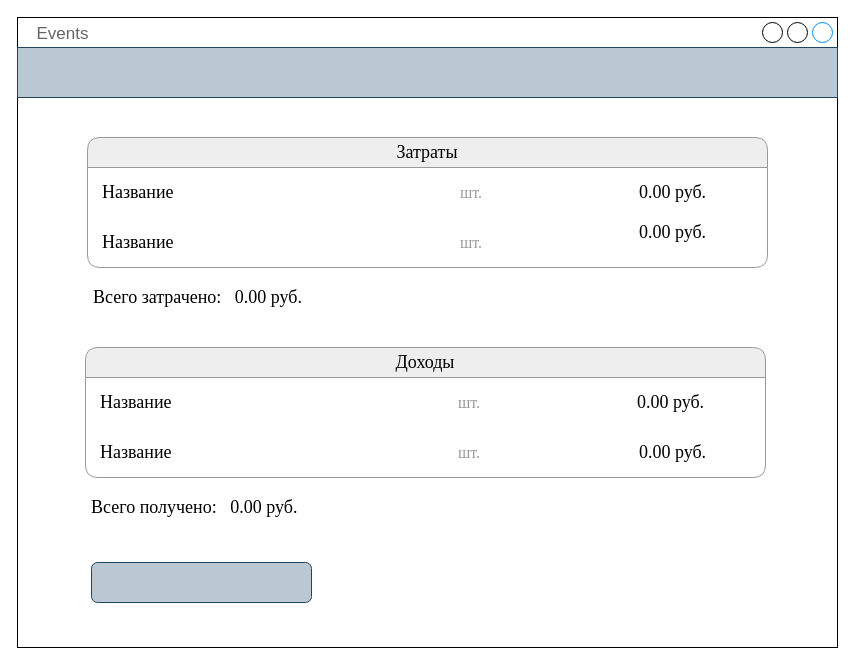
This 855x665 diagram has some shape labels left out. Here are the shapes that lost their labels. From the top down, the centre of each, then its label:
At point (427, 72): "Бюджет".
At point (201, 582): "Сохранить изменения".
